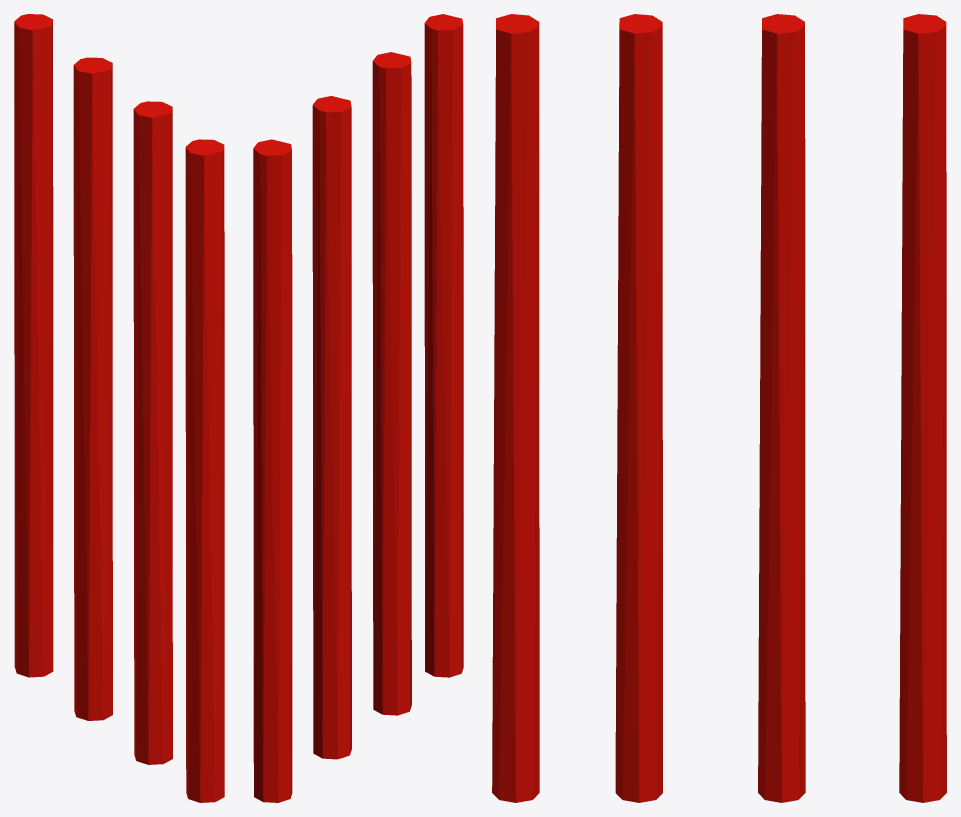
File: laser.glb
3 renders of one model, left to right at view 1: azimuth 30°, elevation 25°; view 2: azimuth 150°, elevation 25°; view 3: azimuth 270°, elevation 25°, orthographic. The views are drawn at different scales.
Visible parts, largest first — view 1: Laser; view 2: Laser; view 3: Laser.
Part boxes in pixels (bbox=[...]): Laser: bbox=[14, 14, 224, 802]; Laser: bbox=[253, 14, 463, 802]; Laser: bbox=[492, 14, 946, 802].
Size of the model in its own units: 0.112 by 2 by 1.07.
